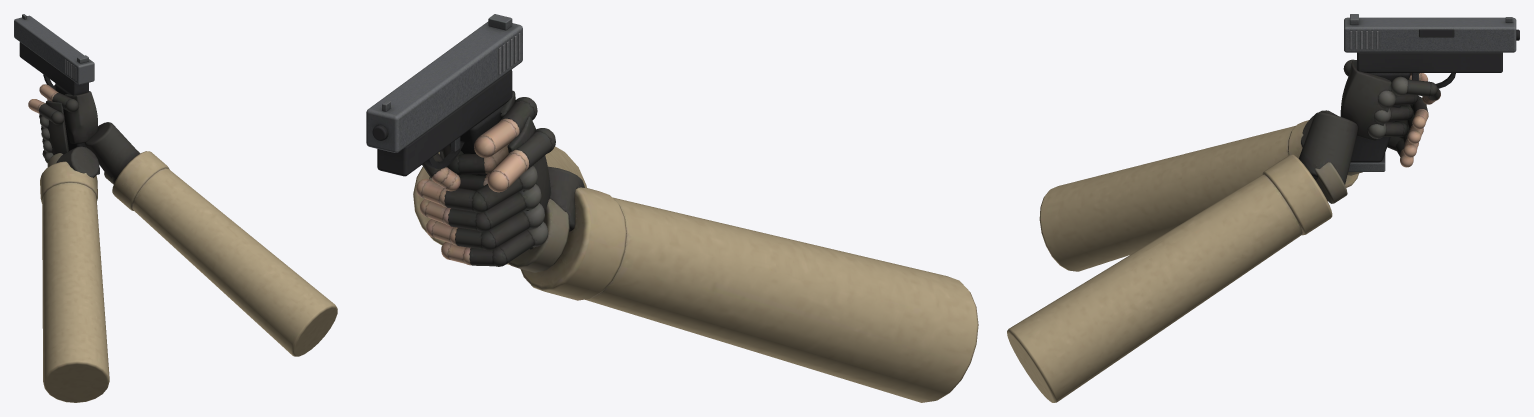
Rendered from pistol.glb.
The picture shows the model from 3 angles, left to right: view 1: azimuth 30°, elevation 25°; view 2: azimuth 150°, elevation 25°; view 3: azimuth 270°, elevation 25°; orthographic projection. The views are drawn at different scales.
Parts seen in each view (by area): view 1: hænder, pistol; view 2: hænder, pistol; view 3: hænder, pistol.
Part boxes in pixels (x1,y1,x2,y2): hænder: [28, 84, 337, 402]; pistol: [14, 14, 99, 174]; hænder: [413, 90, 978, 402]; pistol: [366, 14, 522, 176]; hænder: [1007, 59, 1440, 402]; pistol: [1344, 14, 1519, 171].
Bounding box in the file's own units: 0.4785 × 0.4021 × 0.5798.
2 materials, 2 textured.
